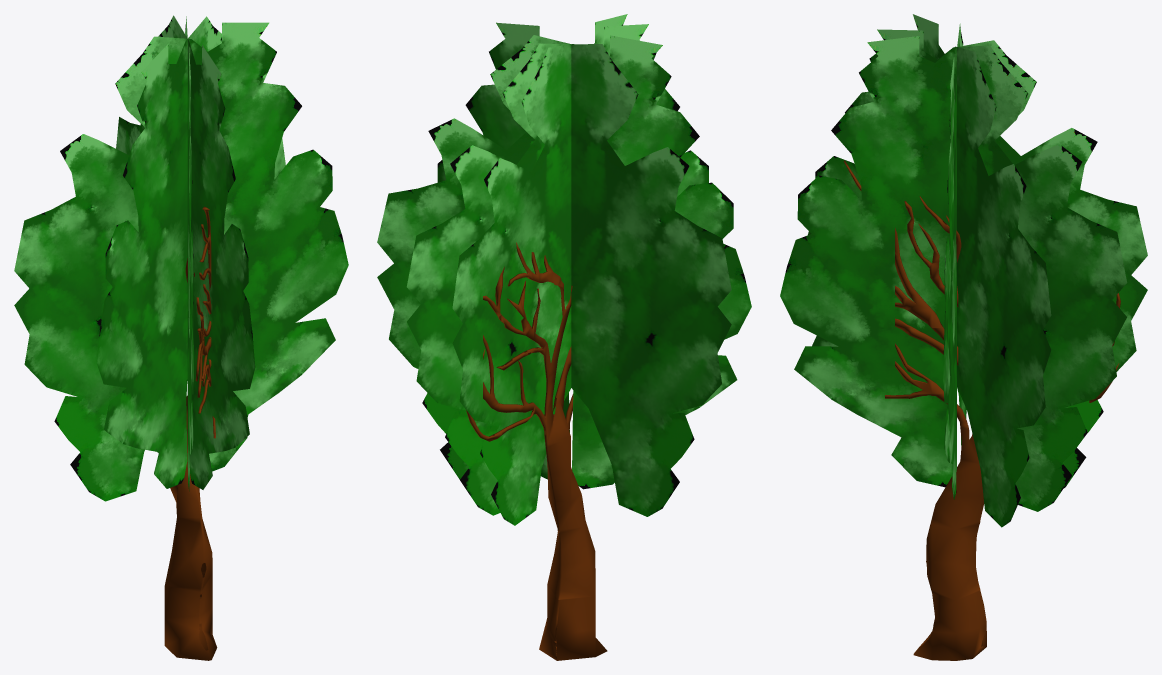
File: tree.fbx
3 views of the same model, side by side, from view 1: azimuth 30°, elevation 25°; view 2: azimuth 150°, elevation 25°; view 3: azimuth 270°, elevation 25° (orthographic).
Visible parts, largest first — view 1: d2bc2ccb-dd17-4b76-b26a-1273e3ee6d55.001, d2bc2ccb-dd17-4b76-b26a-1273e3ee6d55.018, d2bc2ccb-dd17-4b76-b26a-1273e3ee6d55.019, c090c787-1d18-485c-aed2-695b9deaaf12, d2bc2ccb-dd17-4b76-b26a-1273e3ee6d55.020; view 2: d2bc2ccb-dd17-4b76-b26a-1273e3ee6d55.001, d2bc2ccb-dd17-4b76-b26a-1273e3ee6d55.019, d2bc2ccb-dd17-4b76-b26a-1273e3ee6d55.018, d2bc2ccb-dd17-4b76-b26a-1273e3ee6d55.020, c090c787-1d18-485c-aed2-695b9deaaf12; view 3: d2bc2ccb-dd17-4b76-b26a-1273e3ee6d55.019, d2bc2ccb-dd17-4b76-b26a-1273e3ee6d55.018, d2bc2ccb-dd17-4b76-b26a-1273e3ee6d55.020, c090c787-1d18-485c-aed2-695b9deaaf12, d2bc2ccb-dd17-4b76-b26a-1273e3ee6d55.001.
Boxes of the visible parts, <box> form: d2bc2ccb-dd17-4b76-b26a-1273e3ee6d55.001: <box>14,22,348,501</box>; d2bc2ccb-dd17-4b76-b26a-1273e3ee6d55.018: <box>96,16,285,488</box>; d2bc2ccb-dd17-4b76-b26a-1273e3ee6d55.019: <box>116,15,255,489</box>; c090c787-1d18-485c-aed2-695b9deaaf12: <box>164,206,217,660</box>; d2bc2ccb-dd17-4b76-b26a-1273e3ee6d55.020: <box>185,16,193,491</box>; d2bc2ccb-dd17-4b76-b26a-1273e3ee6d55.001: <box>437,22,731,516</box>; d2bc2ccb-dd17-4b76-b26a-1273e3ee6d55.019: <box>452,14,627,525</box>; d2bc2ccb-dd17-4b76-b26a-1273e3ee6d55.018: <box>377,35,751,489</box>; d2bc2ccb-dd17-4b76-b26a-1273e3ee6d55.020: <box>406,24,708,515</box>; c090c787-1d18-485c-aed2-695b9deaaf12: <box>466,242,607,660</box>; d2bc2ccb-dd17-4b76-b26a-1273e3ee6d55.019: <box>780,36,1147,488</box>; d2bc2ccb-dd17-4b76-b26a-1273e3ee6d55.018: <box>913,14,1051,527</box>; d2bc2ccb-dd17-4b76-b26a-1273e3ee6d55.020: <box>808,29,1127,511</box>; c090c787-1d18-485c-aed2-695b9deaaf12: <box>843,160,1120,660</box>; d2bc2ccb-dd17-4b76-b26a-1273e3ee6d55.001: <box>943,23,966,499</box>.
Size of the model in its own units: 64.08 by 118 by 63.69.
Materials: 5 (5 with a texture image).
